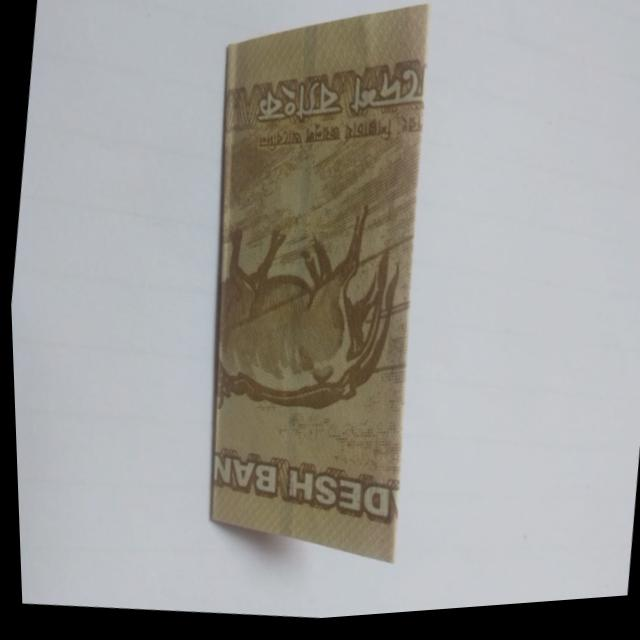Taka: (162, 0, 469, 582)
